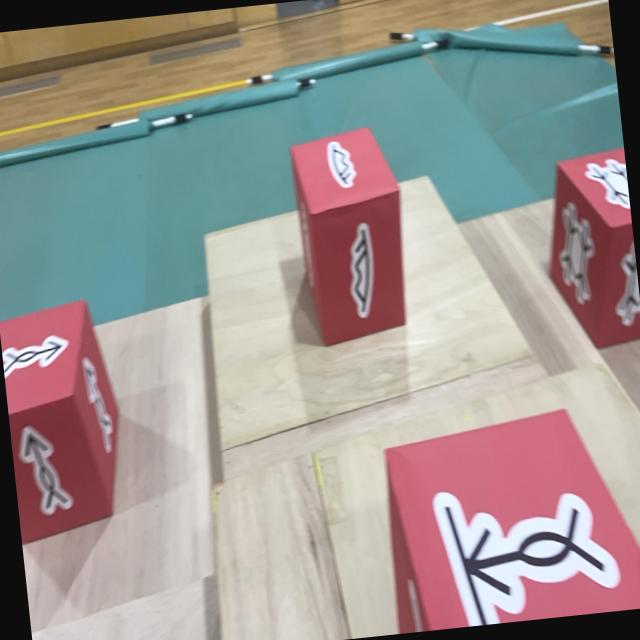11: (342, 222, 380, 320), (324, 138, 358, 192)
12: (18, 422, 75, 517), (80, 354, 116, 456), (0, 332, 72, 382)
6: (551, 198, 601, 308), (607, 238, 640, 326), (583, 156, 630, 214)
7: (429, 471, 623, 628)
fighter: (377, 397, 640, 633), (0, 295, 130, 544), (290, 122, 416, 348), (536, 145, 640, 353)
